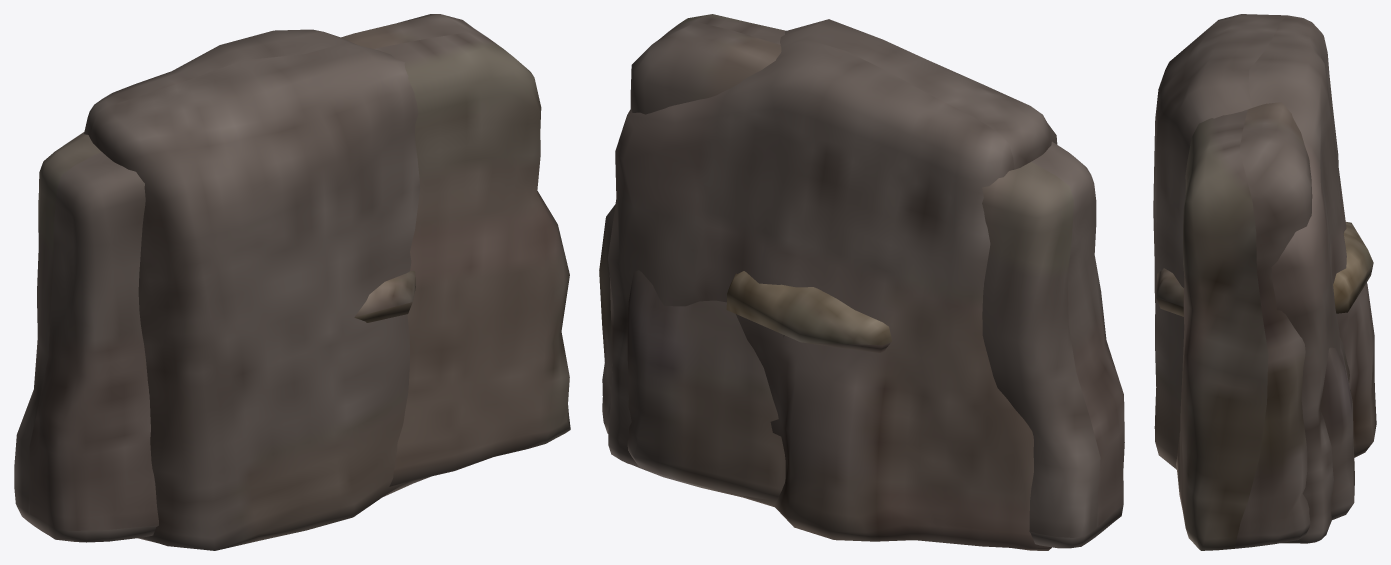
File: Niflheim_Hall_Furniture.glb
3 renders of one model, left to right at view 1: azimuth 30°, elevation 25°; view 2: azimuth 150°, elevation 25°; view 3: azimuth 270°, elevation 25°, orthographic. The views are drawn at different scales.
Visible parts, largest first — view 1: Stone_plate_variant, Stone_plate, Table_top; view 2: Stone_plate_variant, Stone_plate, Table_top; view 3: Stone_plate, Stone_plate_variant, Table_top.
Part boxes in pixels (x1,y1,x2,y2): Stone_plate_variant: (84,29,430,550); Stone_plate: (14,14,570,542); Table_top: (354,271,415,322); Stone_plate_variant: (608,19,1057,550); Stone_plate: (599,14,1124,548); Table_top: (726,271,891,352); Stone_plate: (1176,102,1354,550); Stone_plate_variant: (1153,14,1376,543); Table_top: (1156,222,1373,316).
Size of the model in its own units: 7.77 by 6.38 by 3.29.
2 materials, 2 textured.
